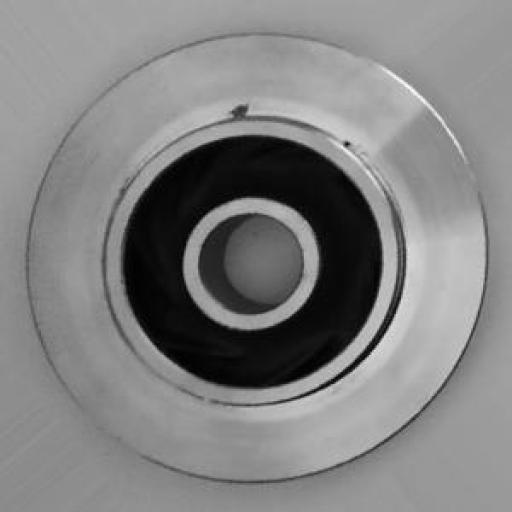defect: (202, 78, 400, 181)
